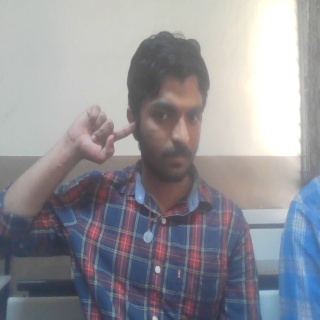Deaf: (60, 102, 137, 168)
Face: (125, 30, 212, 185)
